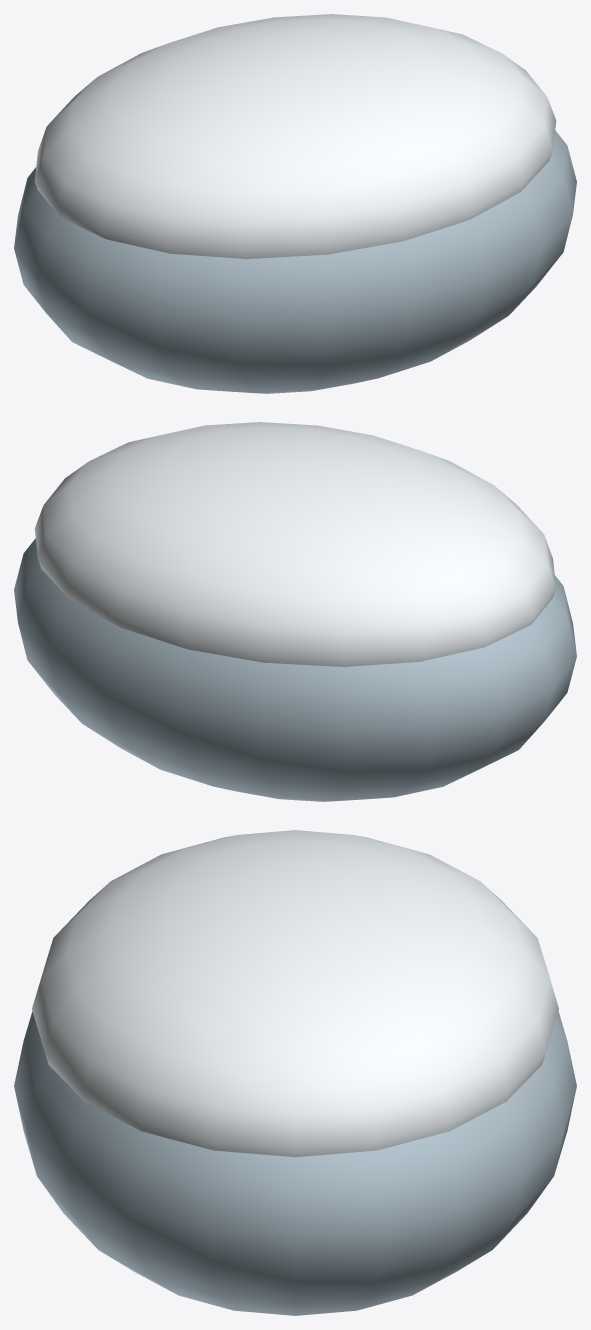
Rendered from rock.glb.
3 views of the same model, one above another, from view 1: azimuth 30°, elevation 25°; view 2: azimuth 150°, elevation 25°; view 3: azimuth 270°, elevation 25° (orthographic). The views are drawn at different scales.
Visible parts, largest first — view 1: Rock; view 2: Rock; view 3: Rock.
Part boxes in pixels (x1,y1,x2,y2): Rock: [14, 14, 576, 393]; Rock: [14, 422, 576, 801]; Rock: [14, 830, 576, 1315].
Bounding box in the file's own units: 1.6 × 0.9 × 1.26.
